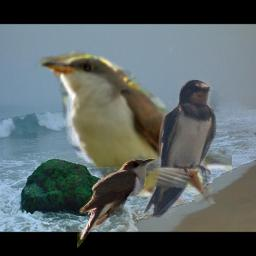Cuckoo: (34, 41, 232, 204), (77, 157, 155, 250)
Swallow: (143, 79, 217, 218)
